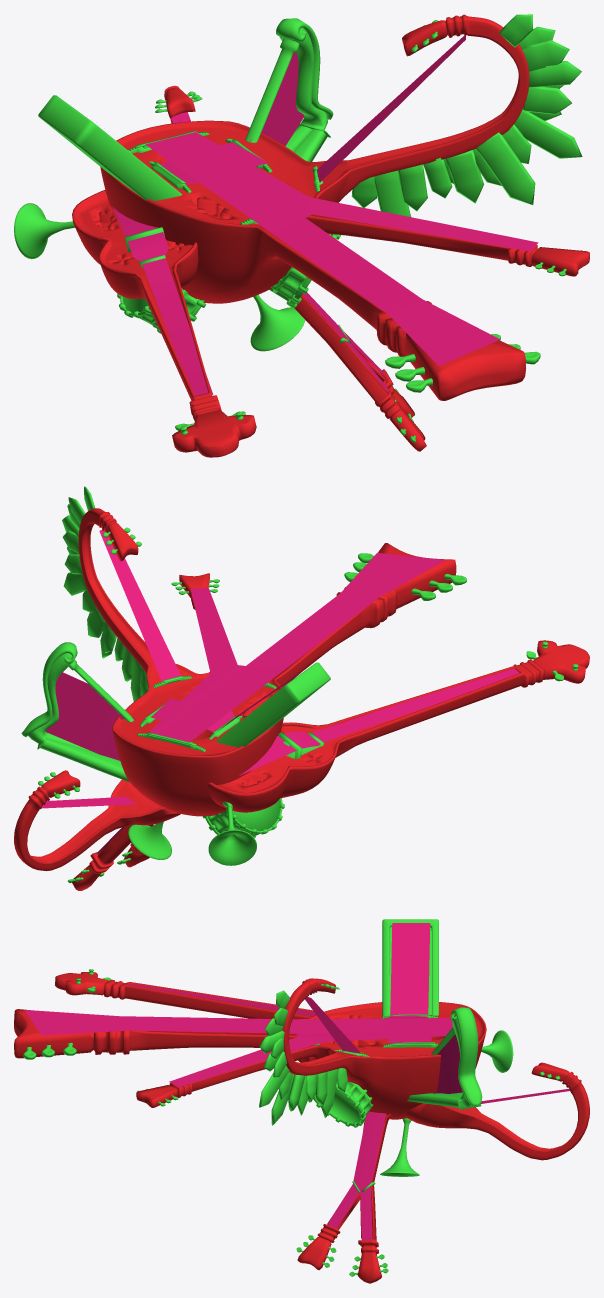
The model's file is SM_Chimère.fbx.
The picture shows the model from 3 angles, top to bottom: view 1: azimuth 30°, elevation 25°; view 2: azimuth 150°, elevation 25°; view 3: azimuth 270°, elevation 25°; orthographic projection. The views are drawn at different scales.
Parts seen in each view (by area): view 1: SM_Chimère; view 2: SM_Chimère; view 3: SM_Chimère.
Boxes of the visible parts, x1,y1,x2,y2 form: SM_Chimère: (14,14,589,457); SM_Chimère: (14,486,589,890); SM_Chimère: (14,919,589,1283).
Size of the model in its own units: 15.32 by 12.2 by 20.4.
